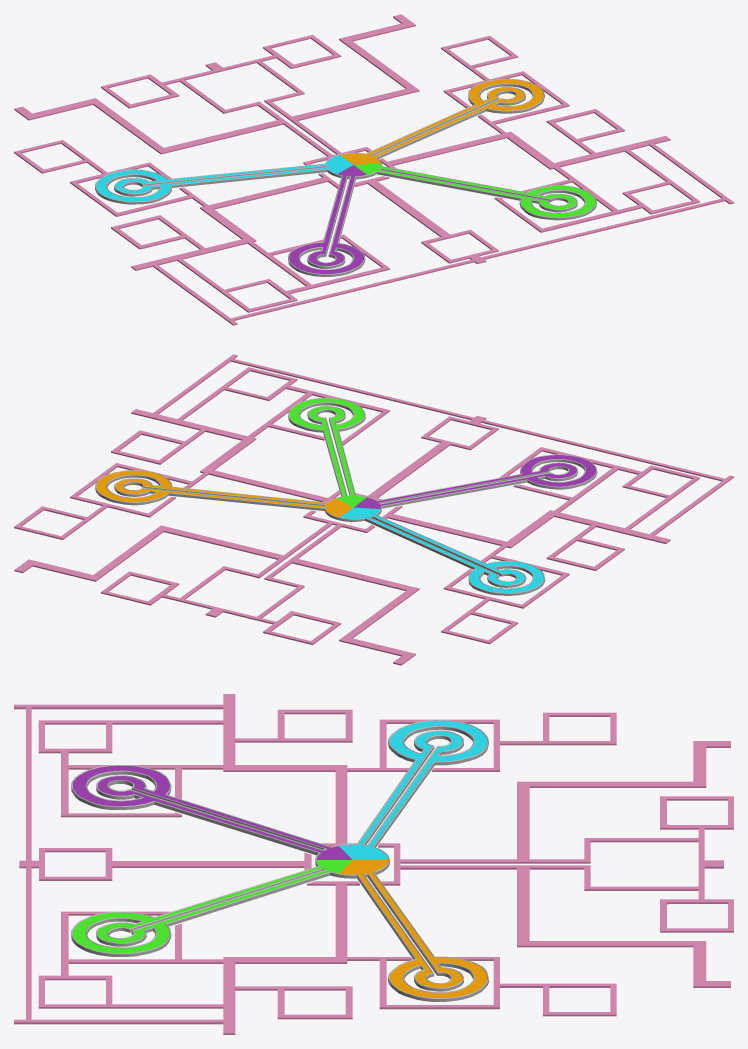
File: D1Blocking_Update.fbx
3 renders of one model, top to bottom at view 1: azimuth 30°, elevation 25°; view 2: azimuth 150°, elevation 25°; view 3: azimuth 270°, elevation 25°, orthographic. The views are drawn at different scales.
Parts seen in each view (by area): view 1: Roads, Riverside, River; view 2: Roads, River, Riverside; view 3: Roads, River, Riverside.
Part boxes in pixels (<box>): Roads: <box>14,14,733,325</box>; Riverside: <box>95,78,596,276</box>; River: <box>96,79,595,273</box>; Roads: <box>14,354,733,665</box>; River: <box>96,398,595,592</box>; Riverside: <box>95,397,597,595</box>; Roads: <box>14,694,733,1034</box>; River: <box>73,720,487,997</box>; Riverside: <box>71,720,488,1001</box>.
Bounding box in the file's own units: 102671 × 868 × 92101.
